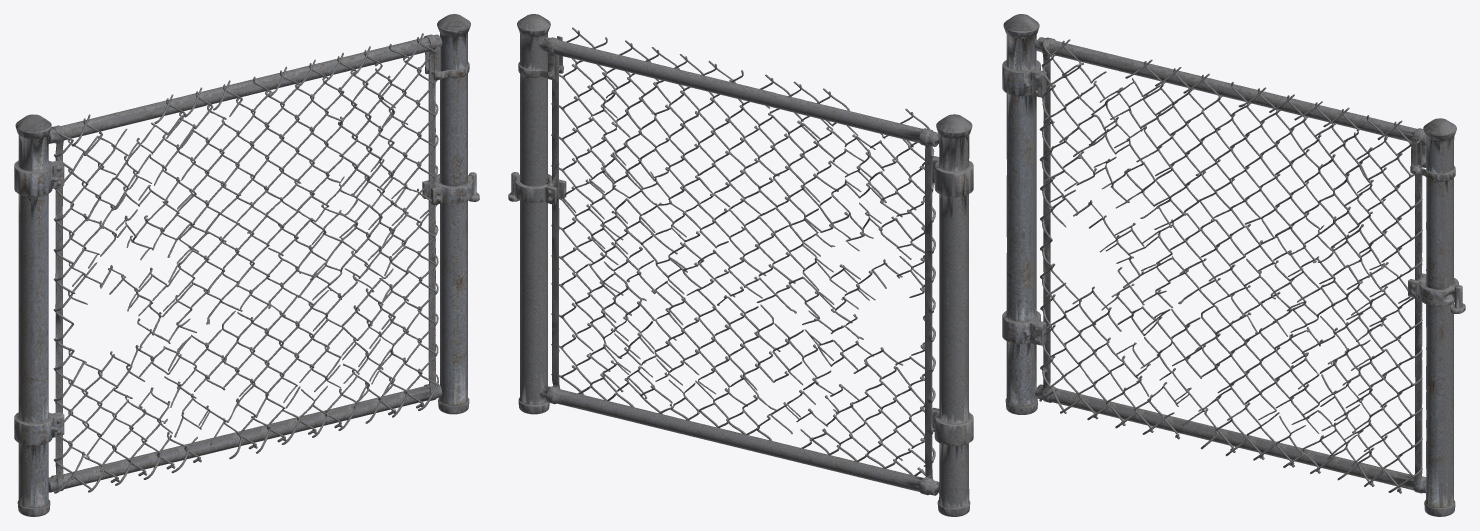
File: fence_gate.glb
3 views of the same model, side by side, from view 1: azimuth 30°, elevation 25°; view 2: azimuth 150°, elevation 25°; view 3: azimuth 330°, elevation 25° (orthographic).
Visible parts, largest first — view 1: fence_gate; view 2: fence_gate; view 3: fence_gate.
Part boxes in pixels (<box>): fence_gate: <box>14,14,479,516</box>; fence_gate: <box>508,14,973,516</box>; fence_gate: <box>1002,14,1465,516</box>.
Bounding box in the file's own units: 190 × 156 × 14.83.
Materials: 1 (1 with a texture image).
